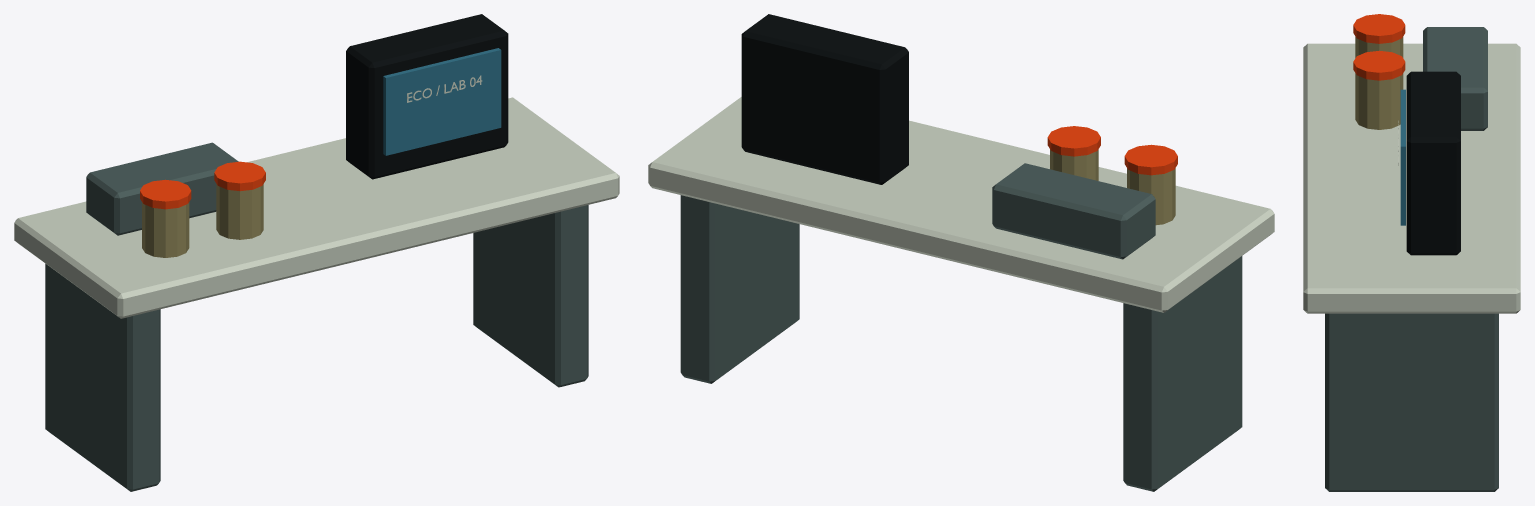
The model's file is SM_MP_Lab_Bench.fbx.
3 views of the same model, side by side, from view 1: azimuth 30°, elevation 25°; view 2: azimuth 150°, elevation 25°; view 3: azimuth 270°, elevation 25° (orthographic). The views are drawn at different scales.
Visible parts, largest first — view 1: SM_MP_Lab_Bench; view 2: SM_MP_Lab_Bench; view 3: SM_MP_Lab_Bench.
Boxes of the visible parts, x1,y1,x2,y2 form: SM_MP_Lab_Bench: [14, 14, 619, 491]; SM_MP_Lab_Bench: [648, 14, 1274, 491]; SM_MP_Lab_Bench: [1303, 14, 1520, 491].
Bounding box in the file's own units: 270 × 100 × 170.
Materials: 1 (1 with a texture image).
